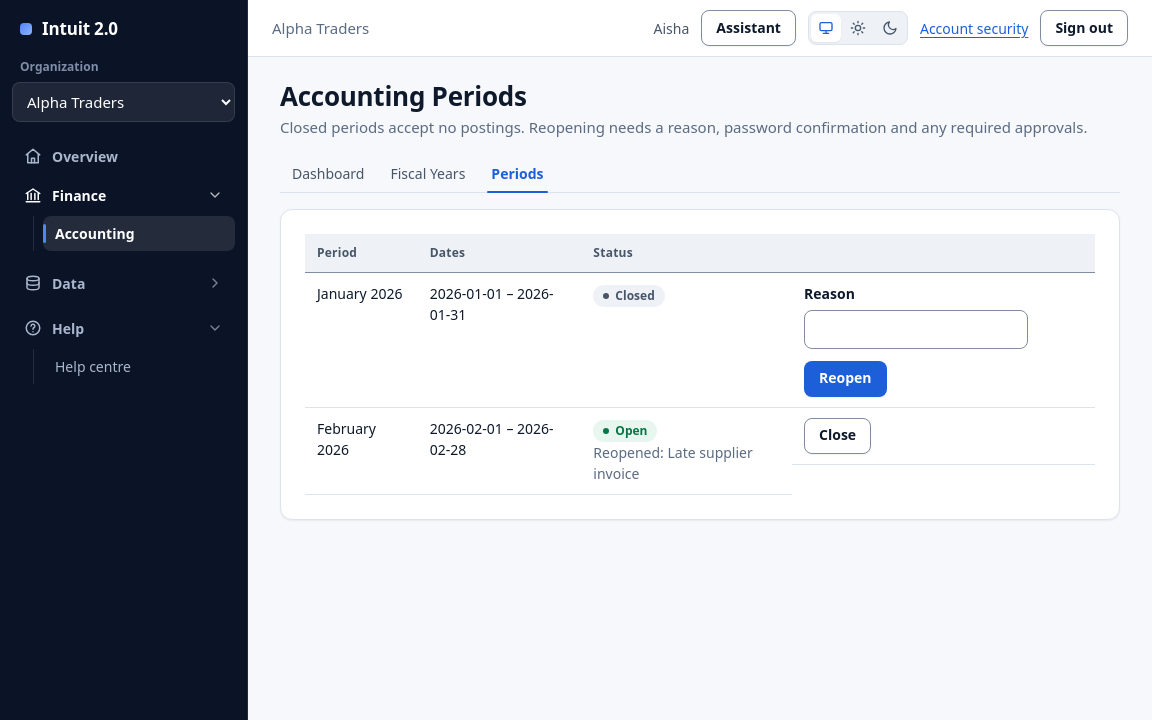
accounting periods page › lists periods with their status, the reopen reason, and the close and reopen actions
expect the heading "Accounting Periods" is shown: met, box [280,78,527,114]
expect the text "Closed periods accept no postings. Reopening needs a reason, password confirmation and any required approvals." is shown: met, box [280,117,1087,137]
Type "Audit adjustment" into the field labelled "Reason". click: x=916, y=329
box: [804,310,1028,349]
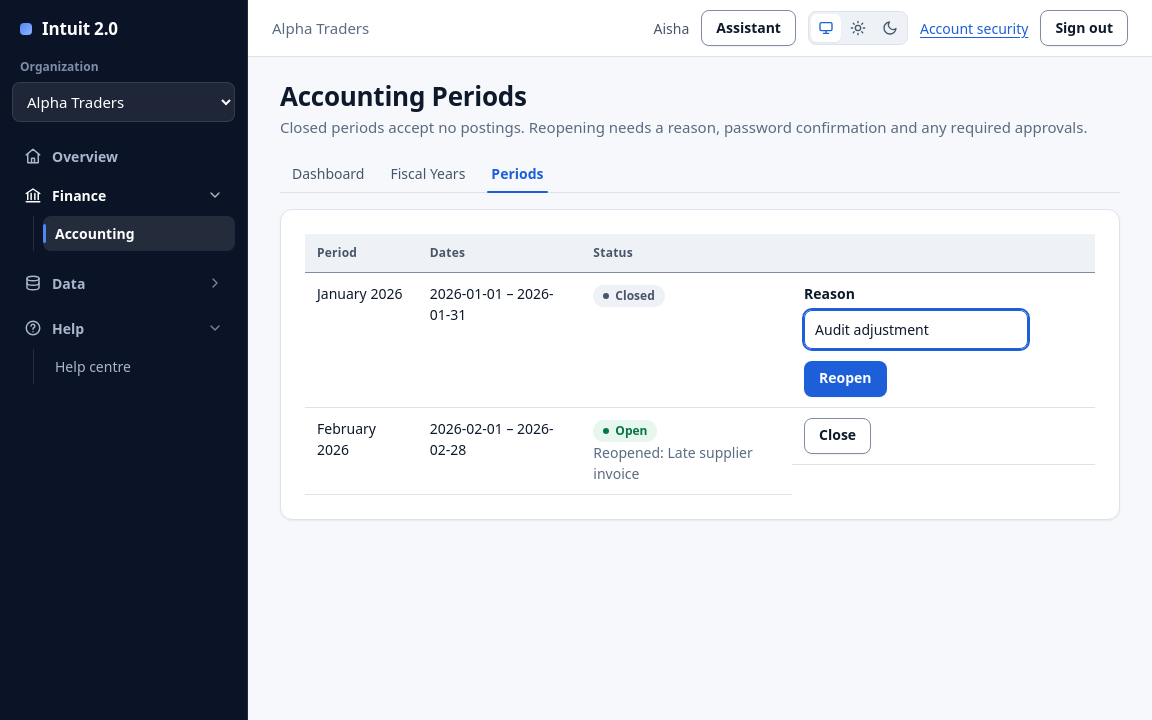
Click the button "Reopen". click: x=845, y=379
box: [804,361,886,397]
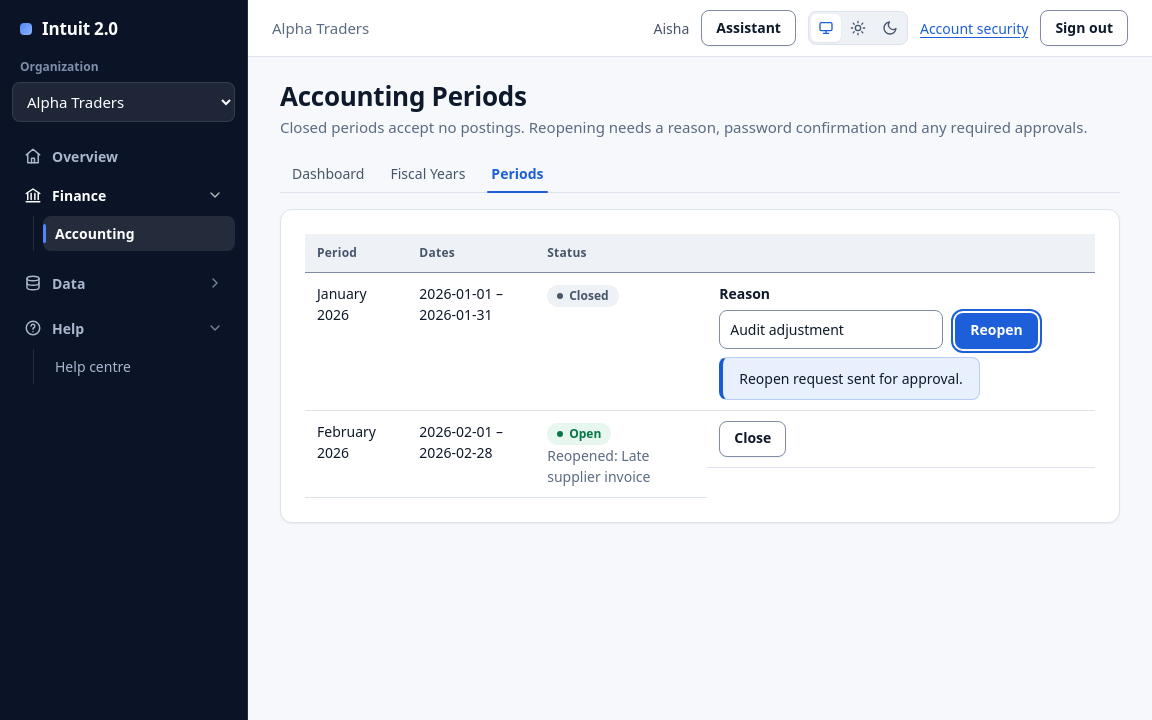
expect the text "Reopen request sent for approval." is shown: met, box [719,357,980,400]
